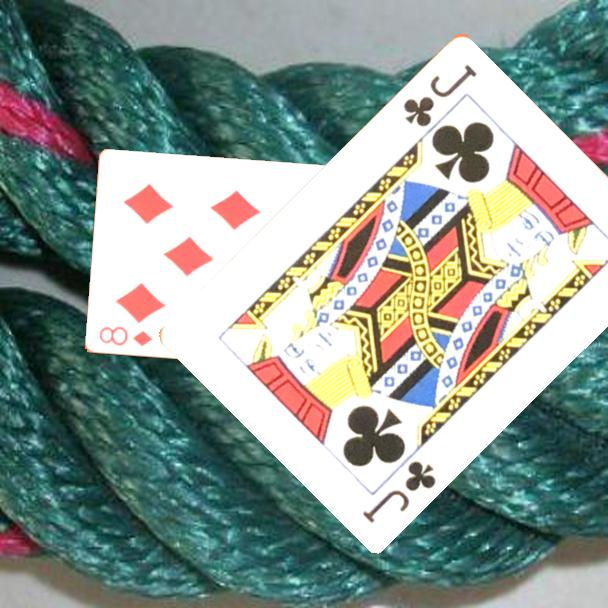c11: (399, 59, 480, 130), (358, 456, 439, 526)
d08: (95, 323, 155, 349)
